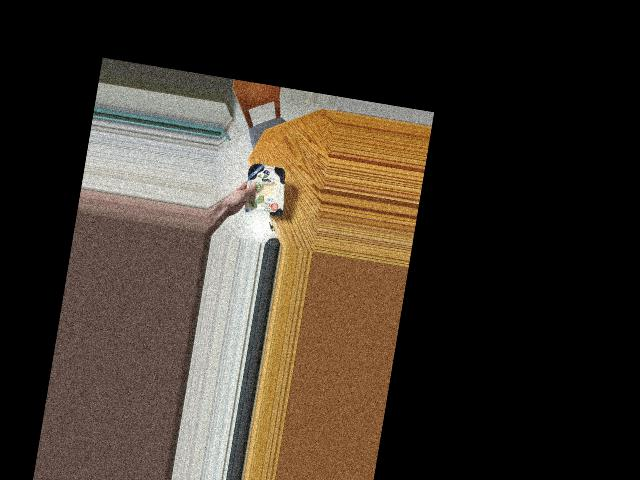cheese: (242, 154, 291, 226)
